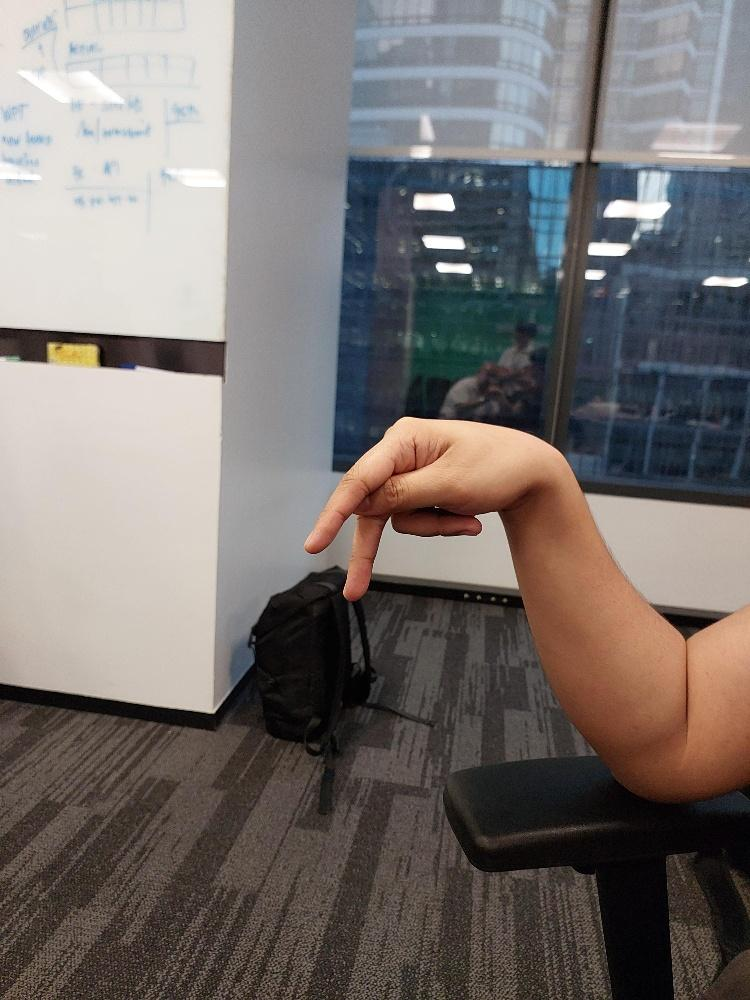p: (299, 410, 561, 604)
